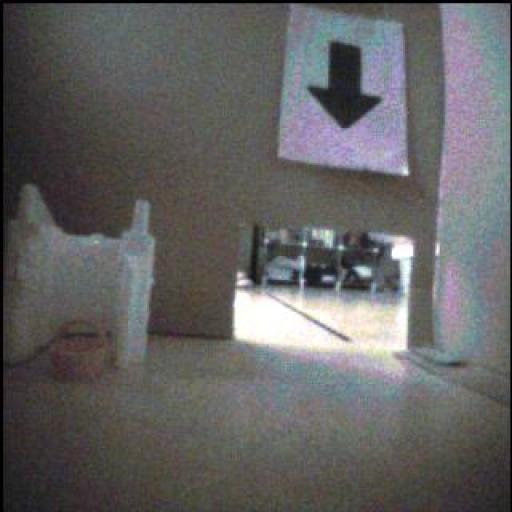arrow: (310, 43, 382, 129)
